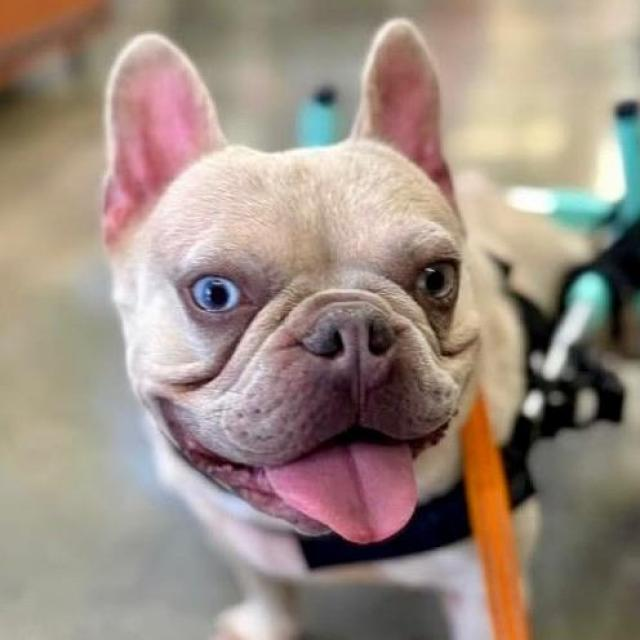french_bulldog_dog: (99, 11, 501, 561)
